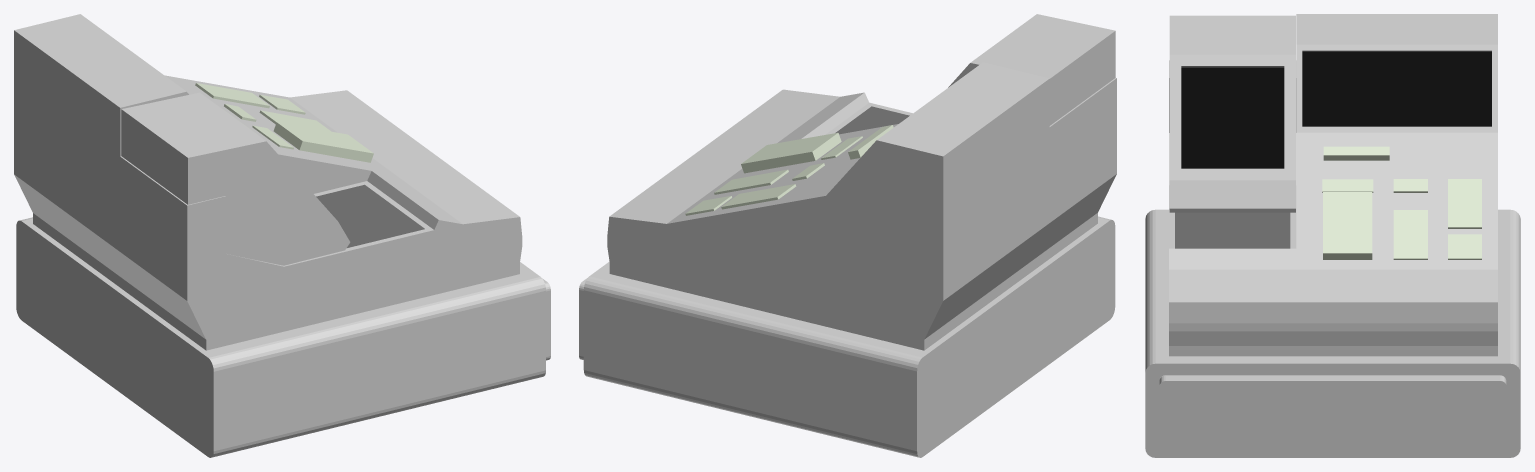
File: cashmachine.fbx
3 views of the same model, side by side, from view 1: azimuth 30°, elevation 25°; view 2: azimuth 150°, elevation 25°; view 3: azimuth 270°, elevation 25° (orthographic). The views are drawn at different scales.
Visible parts, largest first — view 1: body1, base, body2, keys; view 2: body1, base, body2, keys; view 3: body1, container, body2, base, keys.
Boxes of the visible parts, <box> form: body1: <box>14,14,522,350</box>; base: <box>16,217,545,457</box>; body2: <box>121,92,350,265</box>; keys: <box>195,83,373,162</box>; body1: <box>607,62,1116,350</box>; base: <box>583,216,1115,457</box>; body2: <box>948,14,1115,125</box>; keys: <box>685,125,893,215</box>; body1: <box>1169,14,1497,356</box>; container: <box>1159,375,1506,454</box>; body2: <box>1169,15,1295,212</box>; base: <box>1145,209,1520,457</box>; keys: <box>1322,146,1481,259</box>.
Size of the model in its own units: 270 by 215 by 258.
